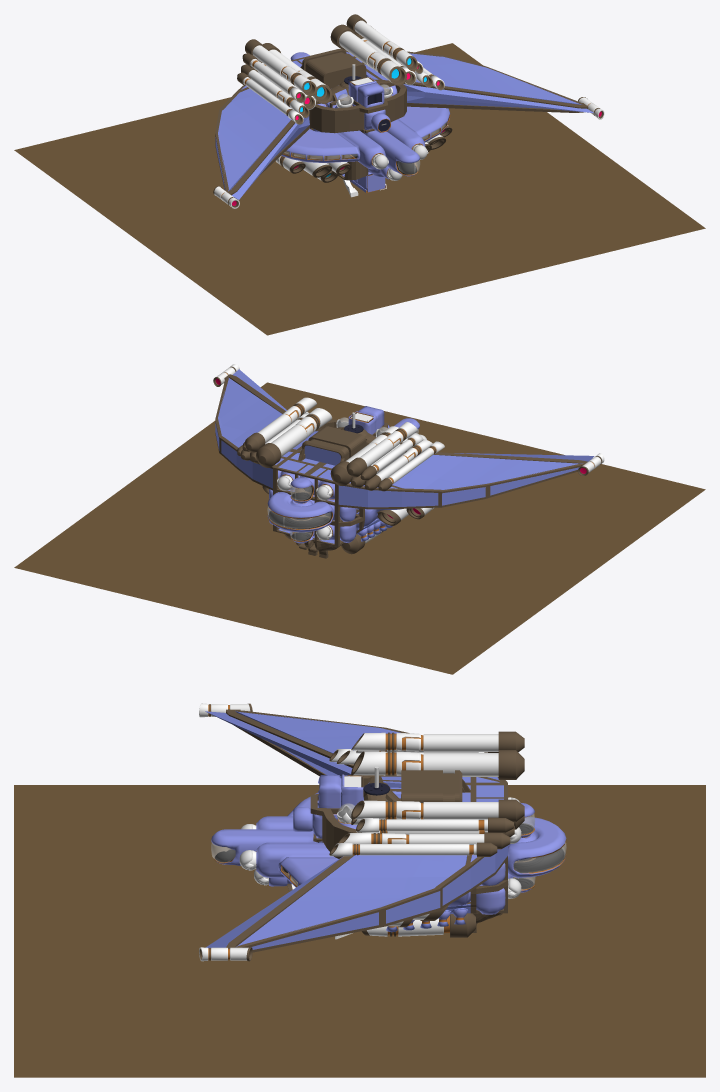
The model's file is elevator.glb.
3 views of the same model, one above another, from view 1: azimuth 30°, elevation 25°; view 2: azimuth 150°, elevation 25°; view 3: azimuth 270°, elevation 25° (orthographic). The views are drawn at different scales.
Visible parts, largest first — view 1: ground, plating, top primary engines, FRAME, 2nd floor habitation.009, 2nd floor habitation.008, 2nd floor habitation.002, upper stellorator doors; view 2: ground, plating, top primary engines, FRAME, 2nd floor habitation, windows, floor, upper stellorator doors, RhombicDodecahedron.006; view 3: ground, top primary engines, plating, FRAME, 2nd floor habitation.008, 2nd floor habitation, 2nd floor habitation.002, windows, 2nd floor habitation.009, upper stellorator doors, floor, main hull.010 (+1 smaller).
Part boxes in pixels (x1,y1,x2,y2): ground: [14, 43, 705, 335]; plating: [215, 50, 594, 199]; top primary engines: [213, 14, 604, 208]; FRAME: [215, 49, 588, 195]; 2nd floor habitation.009: [281, 106, 450, 162]; 2nd floor habitation.008: [337, 119, 425, 169]; 2nd floor habitation.002: [366, 130, 419, 176]; upper stellorator doors: [308, 54, 362, 82]; ground: [14, 382, 705, 674]; plating: [215, 369, 594, 543]; top primary engines: [213, 364, 604, 554]; FRAME: [215, 374, 587, 551]; 2nd floor habitation: [267, 492, 333, 532]; windows: [267, 429, 418, 540]; floor: [269, 485, 332, 540]; upper stellorator doors: [311, 426, 365, 456]; RhombicDodecahedron.006: [277, 476, 330, 540]; ground: [14, 785, 705, 1077]; top primary engines: [199, 703, 524, 961]; plating: [205, 711, 507, 949]; FRAME: [226, 709, 507, 952]; 2nd floor habitation.008: [256, 816, 335, 877]; 2nd floor habitation: [508, 817, 566, 877]; 2nd floor habitation.002: [211, 829, 317, 865]; windows: [211, 814, 566, 889]; 2nd floor habitation.009: [278, 792, 468, 906]; upper stellorator doors: [403, 770, 441, 803]; floor: [215, 823, 564, 889]; main hull.010: [318, 775, 341, 808].
Bounding box in the file's own units: 60 × 15.75 × 60.
